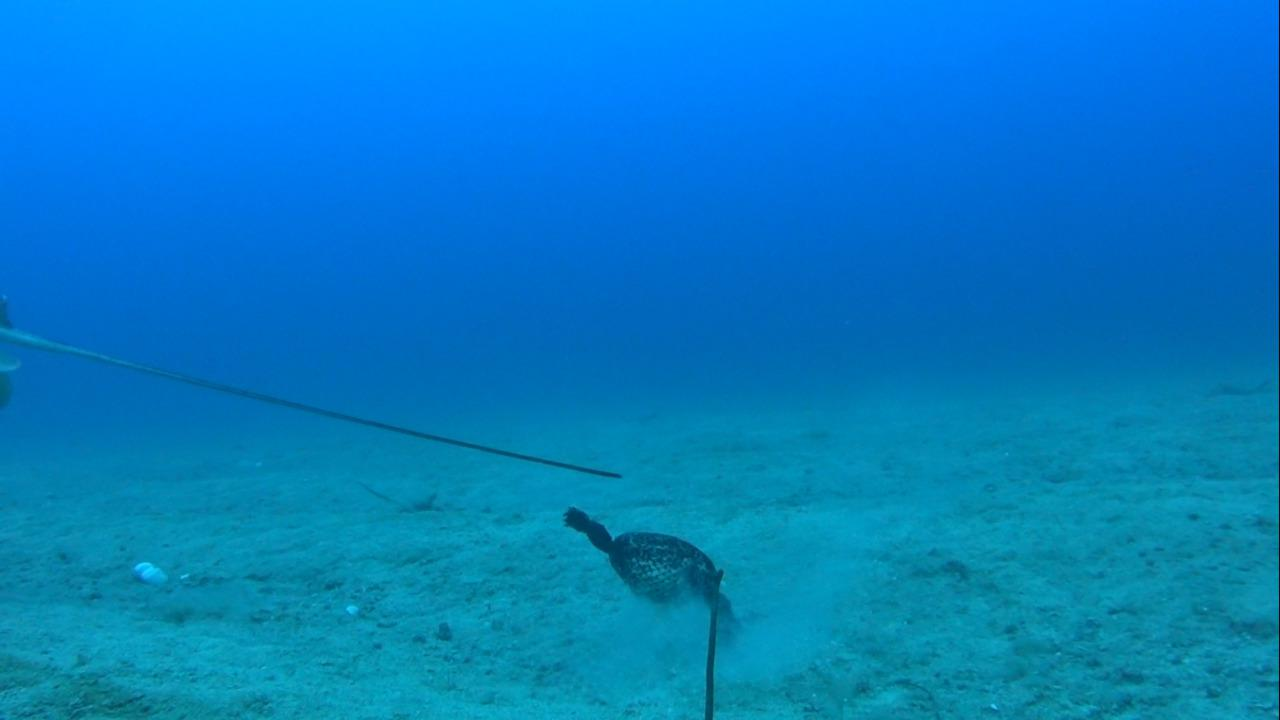myliobatis: (1, 295, 631, 485)
